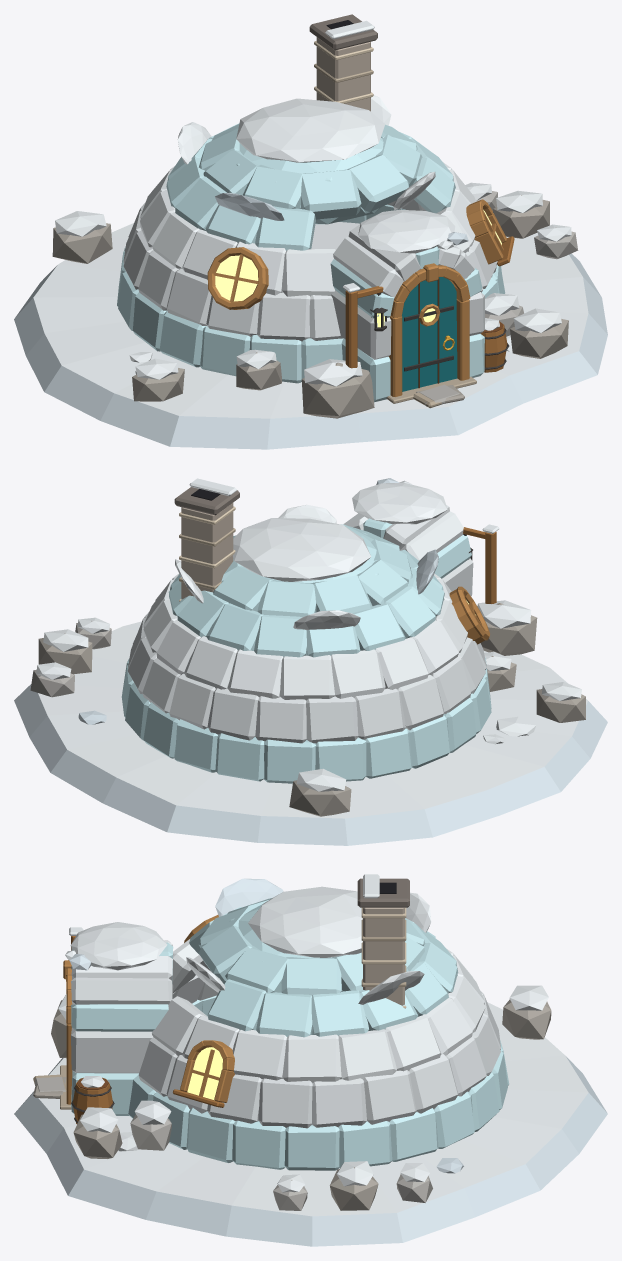
The model's file is snow_dome_exterior.glb.
3 views of the same model, one above another, from view 1: azimuth 30°, elevation 25°; view 2: azimuth 150°, elevation 25°; view 3: azimuth 270°, elevation 25° (orthographic). The views are drawn at different scales.
Visible parts, largest first — view 1: snow_dome_exterior, snow_dome_exterior_roof, part_door_leaf; view 2: snow_dome_exterior, snow_dome_exterior_roof; view 3: snow_dome_exterior, snow_dome_exterior_roof.
Boxes of the visible parts, x1,y1,x2,y2 form: snow_dome_exterior: (14, 162, 607, 449); snow_dome_exterior_roof: (166, 14, 455, 250); part_door_leaf: (402, 277, 457, 391); snow_dome_exterior: (14, 478, 607, 845); snow_dome_exterior_roof: (168, 478, 444, 657); snow_dome_exterior: (14, 915, 607, 1246); snow_dome_exterior_roof: (186, 874, 458, 1037).
Bounding box in the file's own units: 7.41 × 3.45 × 7.04.
